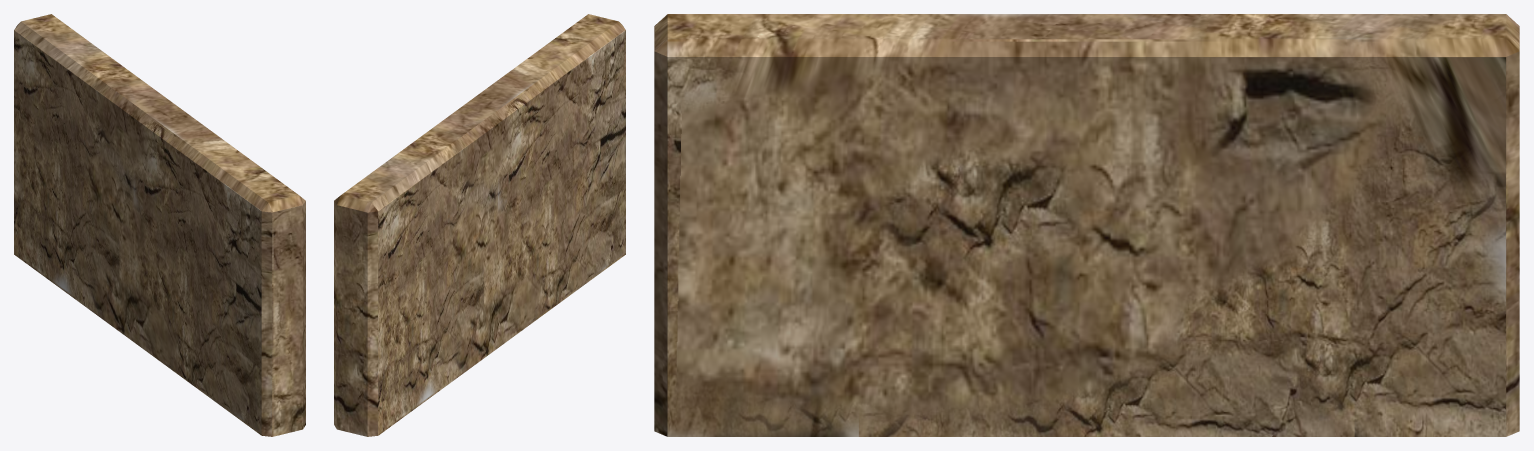
The picture shows the model from 3 angles, left to right: view 1: azimuth 30°, elevation 25°; view 2: azimuth 150°, elevation 25°; view 3: azimuth 270°, elevation 25°; orthographic projection. The views are drawn at different scales.
Visible parts, largest first — view 1: Wall1Low; view 2: Wall1Low; view 3: Wall1Low.
Part boxes in pixels (x1,y1,x2,y2): Wall1Low: (14,14,305,436); Wall1Low: (334,14,625,436); Wall1Low: (654,14,1519,436).
Size of the model in its own units: 200 by 1000 by 2000.
1 material, 1 textured.
